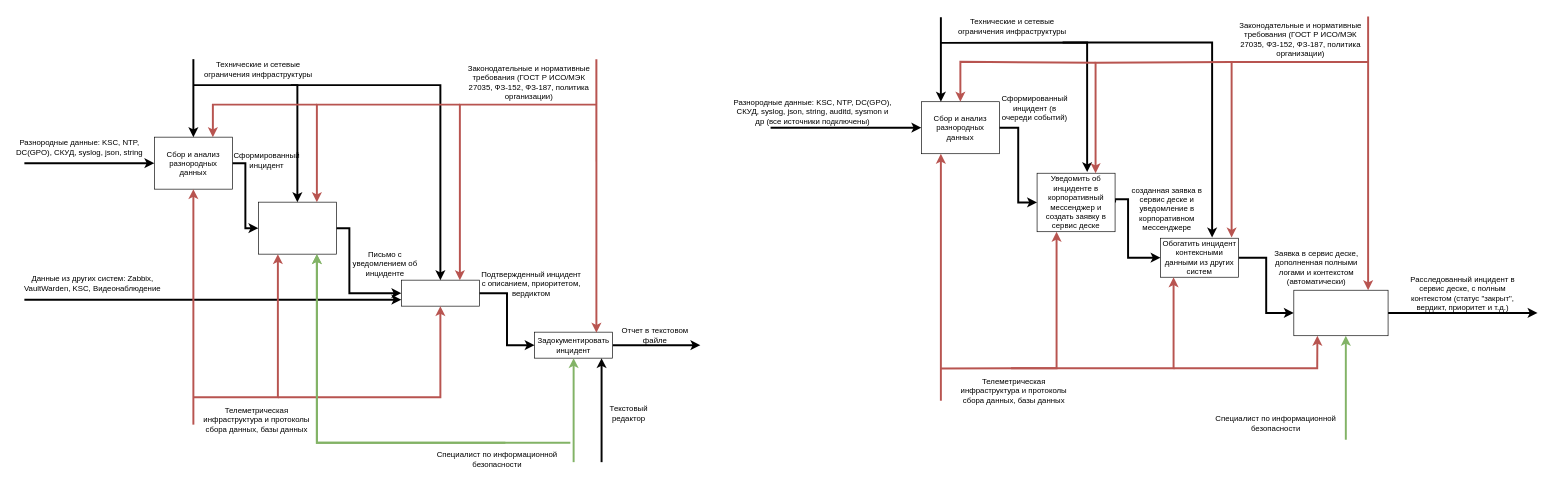
Image size: 1555x480. Some labels were removed from this diagram. Here are the shapes that lost their labels. From the top down, the box of each, then its label:
(258, 202, 336, 254): Отправить уведомление инциденте на корпоративную почту
(401, 280, 479, 306): Расследовать вручную инцидент
(1293, 290, 1388, 336): Зафиксировать расследованный инцидент в сервис деске с полным контекстом
